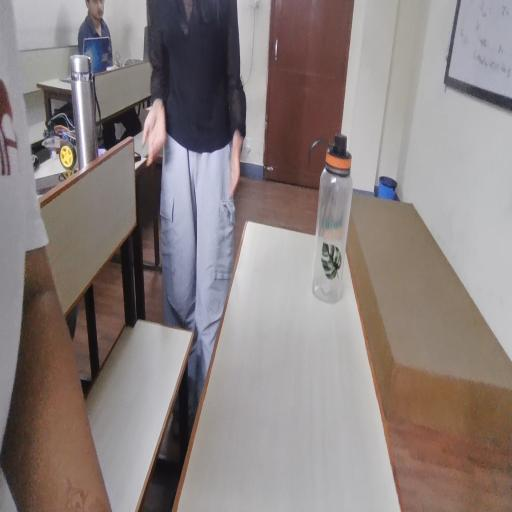Bottle: (315, 130, 360, 317)
